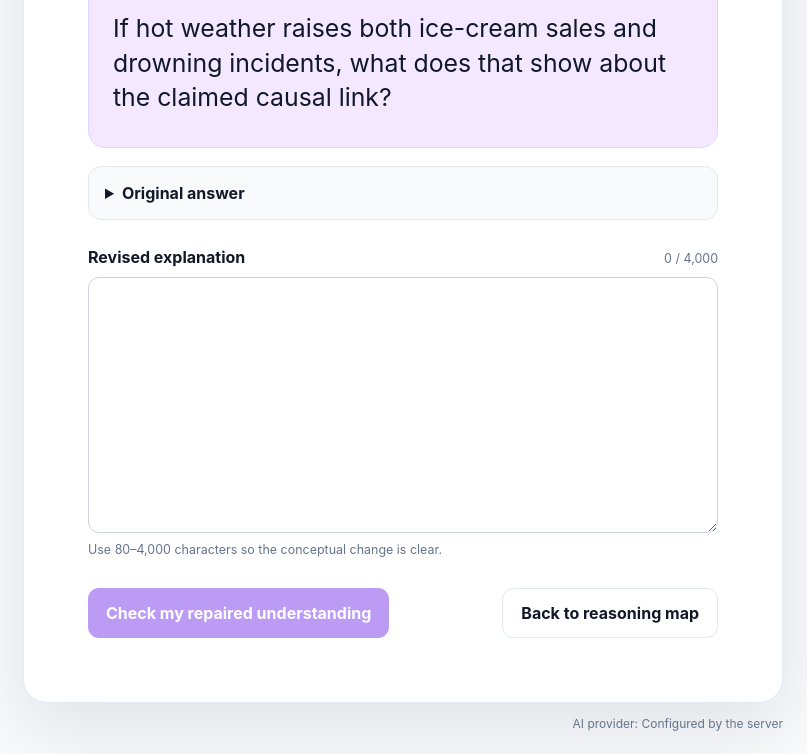
Scenario: shows a repair counter and an inline minimum-length error
(page scrolled)
Step 1. Type "Still too short" into the text box labelled "Revised explanation" → (403, 405), box [88,277,718,533]
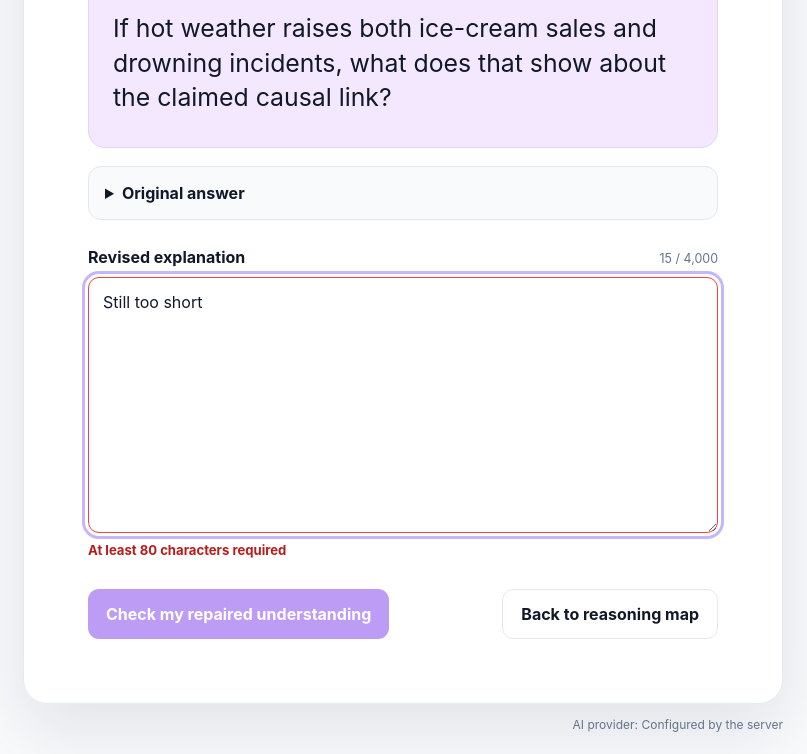
Expected: the button "Check my repaired understanding" is disabled, [88,589,389,639]
Expected: the text "15 / 4,000" is shown, [660,250,718,269]
Expected: the text "At least 80 characters required" is shown, [88,542,286,558]
